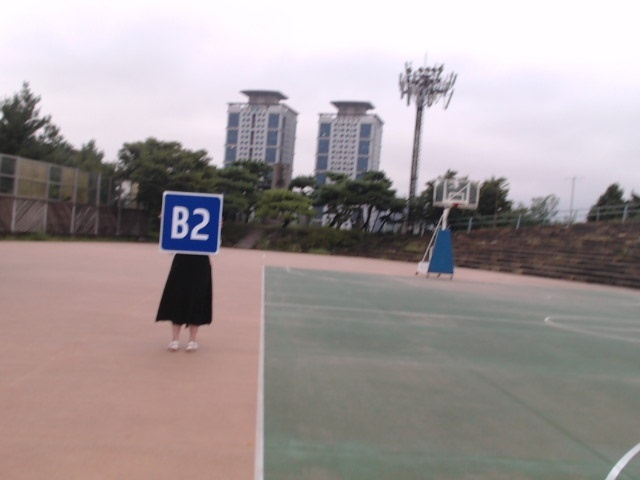delivery_b2: (161, 192, 222, 254)
